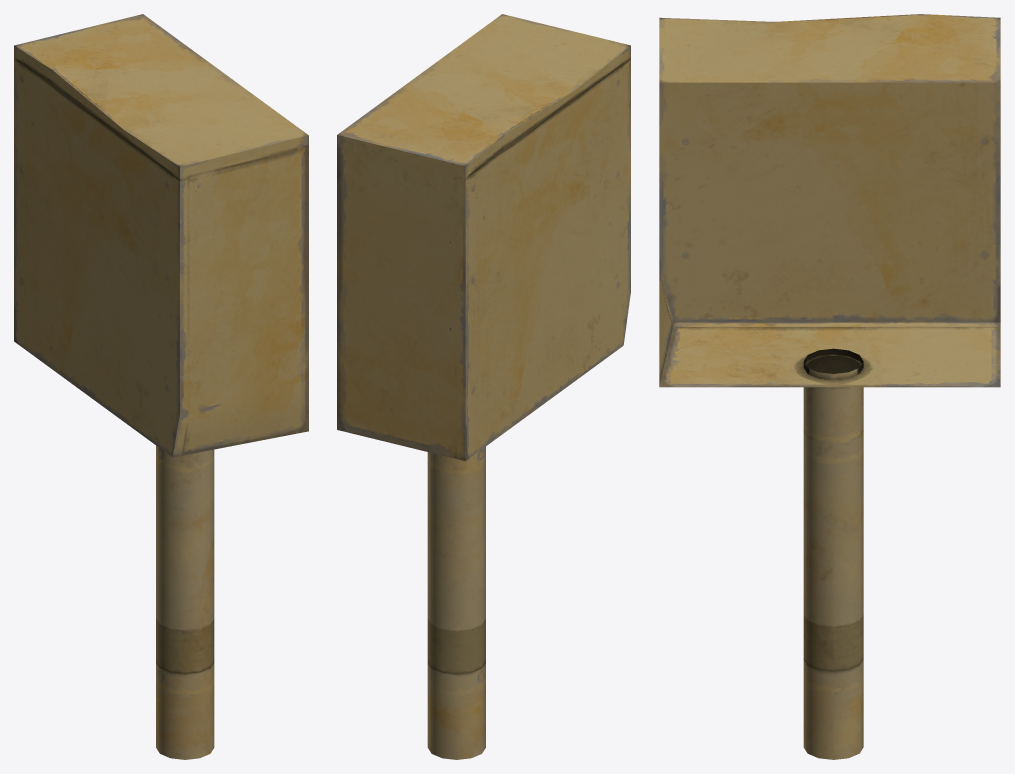
Rendered from MB_Transformer_Wall_01.fbx.
3 renders of one model, left to right at view 1: azimuth 30°, elevation 25°; view 2: azimuth 150°, elevation 25°; view 3: azimuth 270°, elevation 25°, orthographic. The views are drawn at different scales.
Parts seen in each view (by area): view 1: MB_Transformer_Wall_01; view 2: MB_Transformer_Wall_01; view 3: MB_Transformer_Wall_01.
Boxes of the visible parts, x1=… form: MB_Transformer_Wall_01: x1=14, y1=14, x2=308, y2=759; MB_Transformer_Wall_01: x1=337, y1=14, x2=630, y2=759; MB_Transformer_Wall_01: x1=659, y1=14, x2=1000, y2=759.
Size of the model in its own units: 27.05 by 134 by 60.17.
